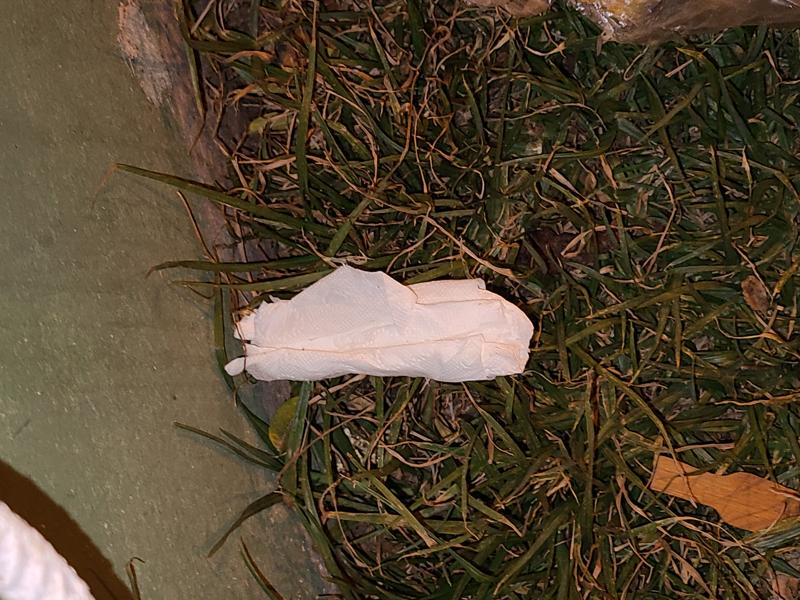papel: (231, 265, 537, 385)
